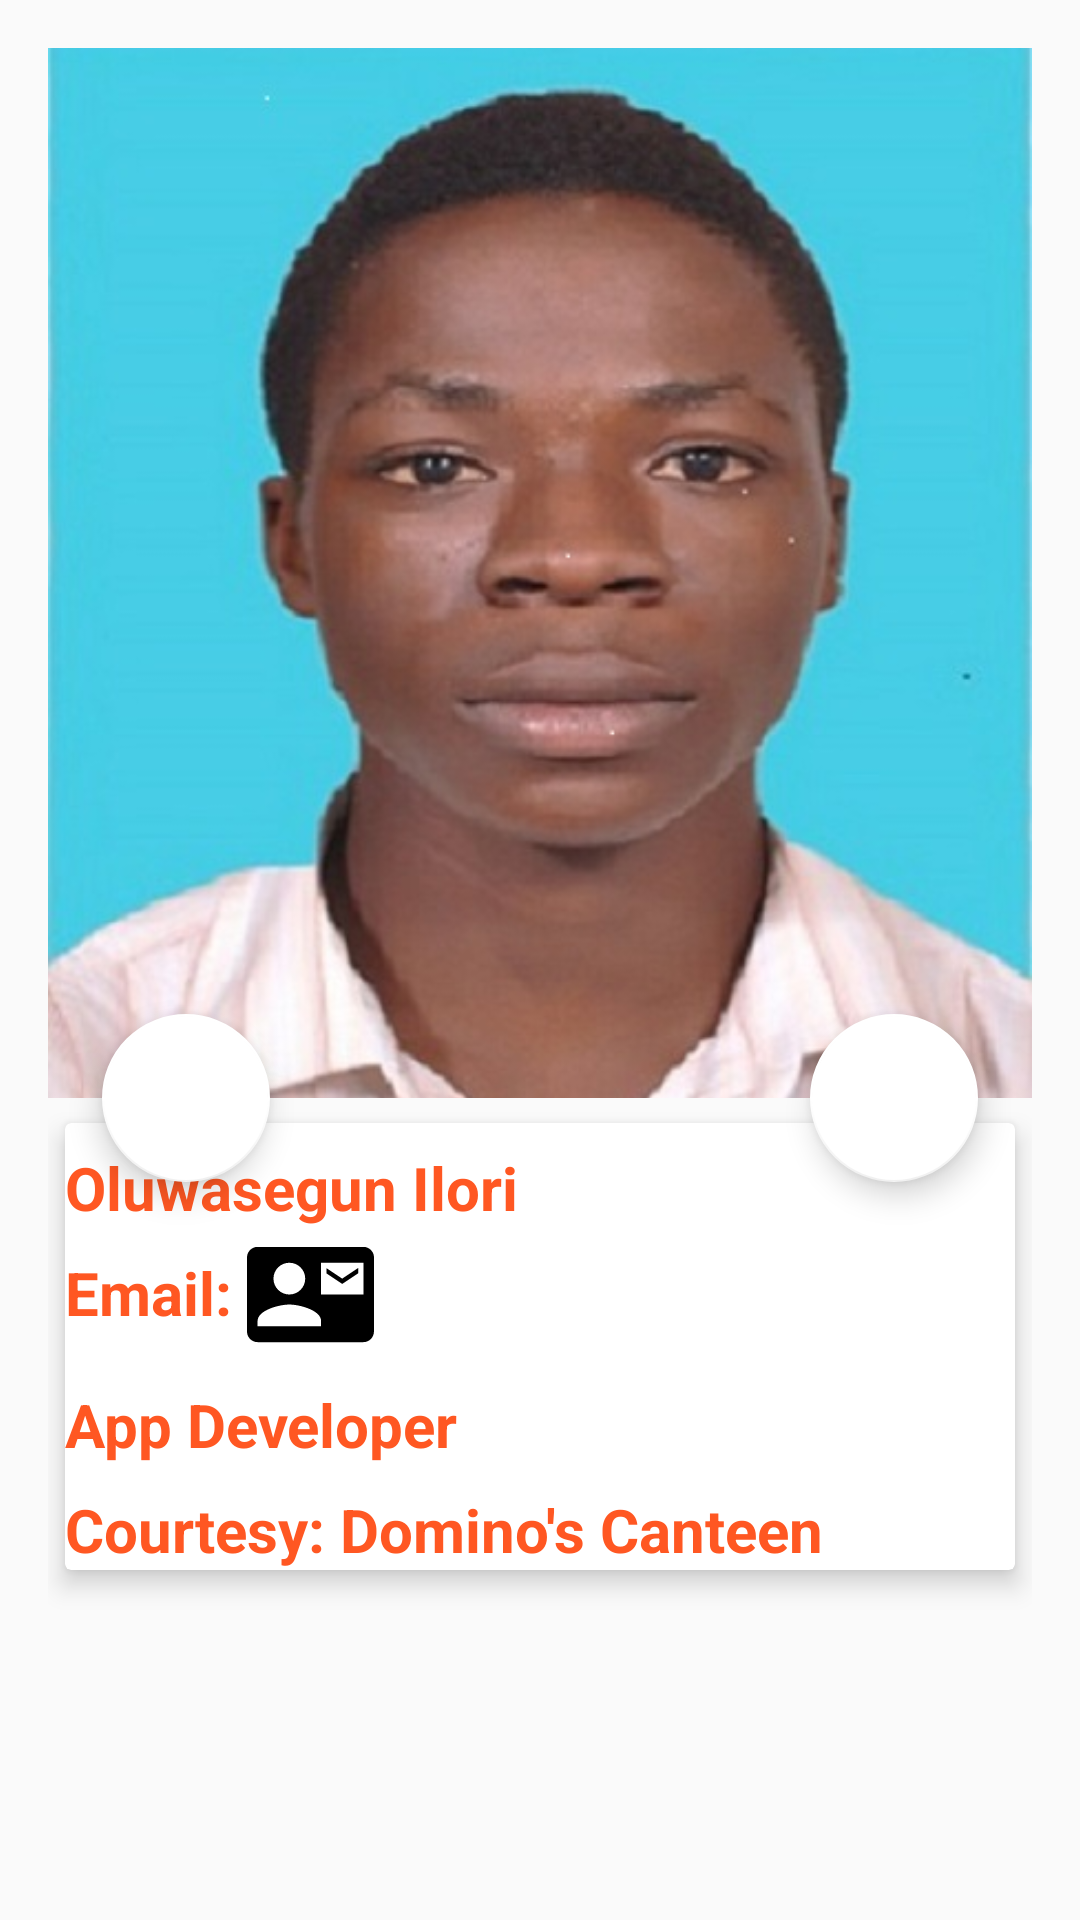

Locate icon controls on the screen. Image size 1080x1920, boxes as (x1,y1,x2,y2).
contact mail: (247,1247,374,1343)
